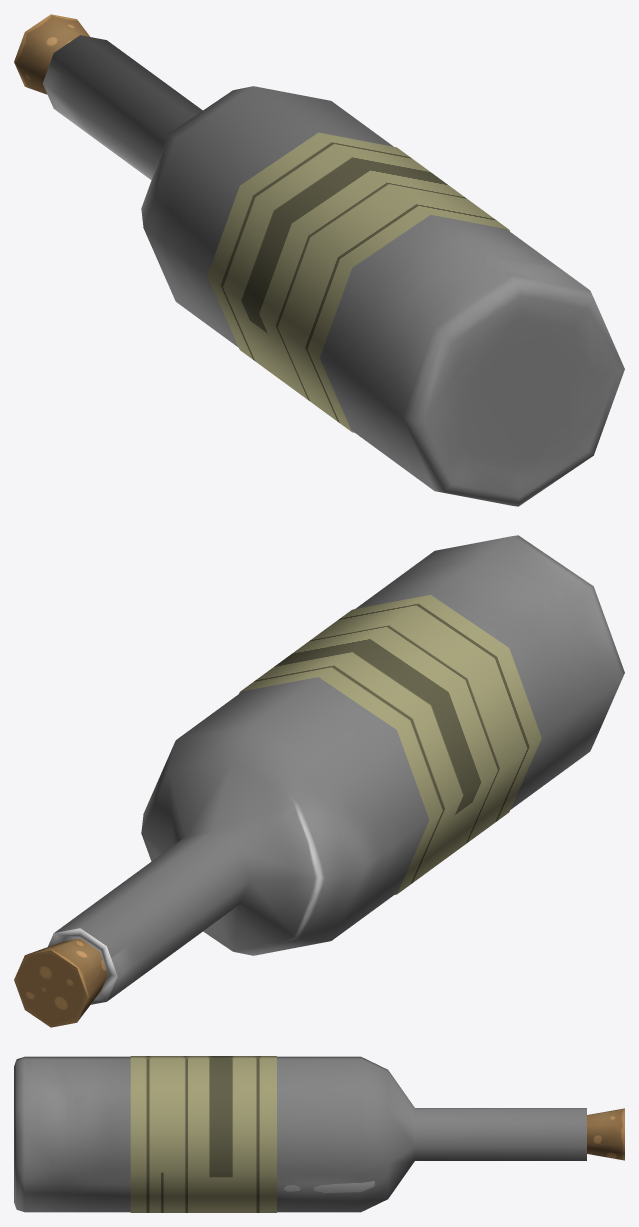
The model's file is Garrafa.FBX.
3 renders of one model, top to bottom at view 1: azimuth 30°, elevation 25°; view 2: azimuth 150°, elevation 25°; view 3: azimuth 270°, elevation 25°, orthographic. The views are drawn at different scales.
Visible parts, largest first — view 1: Garrafa; view 2: Garrafa; view 3: Garrafa.
Part boxes in pixels (left/top/right/bottom): Garrafa: left=14, top=14, right=624, bottom=506; Garrafa: left=14, top=535, right=624, bottom=1027; Garrafa: left=14, top=1056, right=624, bottom=1212.
Size of the model in its own units: 38.32 by 38.32 by 140.
